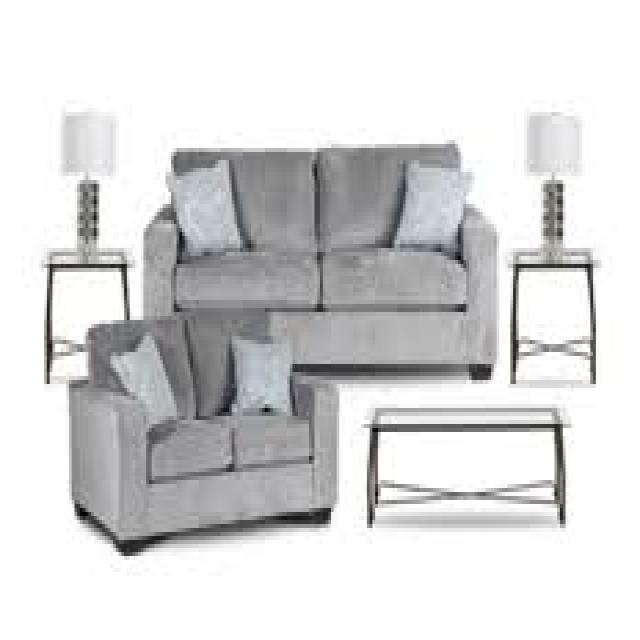Lamp: (28, 80, 126, 254), (524, 102, 585, 266)
Sofa: (131, 127, 498, 380), (66, 303, 344, 548)
Table: (351, 391, 581, 525), (42, 257, 142, 384), (514, 248, 600, 382)
